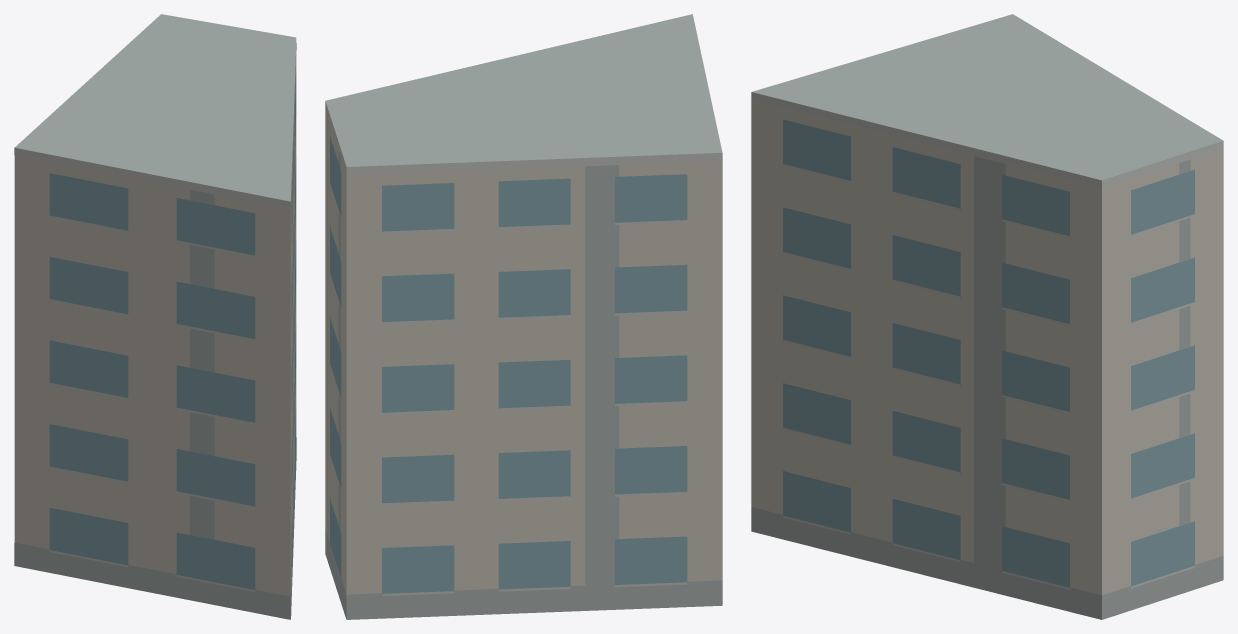
The model's file is survey-upis-32886594.glb.
3 renders of one model, left to right at view 1: azimuth 30°, elevation 25°; view 2: azimuth 150°, elevation 25°; view 3: azimuth 270°, elevation 25°, orthographic. The views are drawn at different scales.
Visible parts, largest first — view 1: survey-upis-32886594.tmp; view 2: survey-upis-32886594.tmp; view 3: survey-upis-32886594.tmp.
Boxes of the visible parts, x1,y1,x2,y2 form: survey-upis-32886594.tmp: (14, 14, 296, 619); survey-upis-32886594.tmp: (325, 14, 722, 619); survey-upis-32886594.tmp: (751, 14, 1223, 619).
Size of the model in its own units: 10.76 by 13.25 by 12.91.
